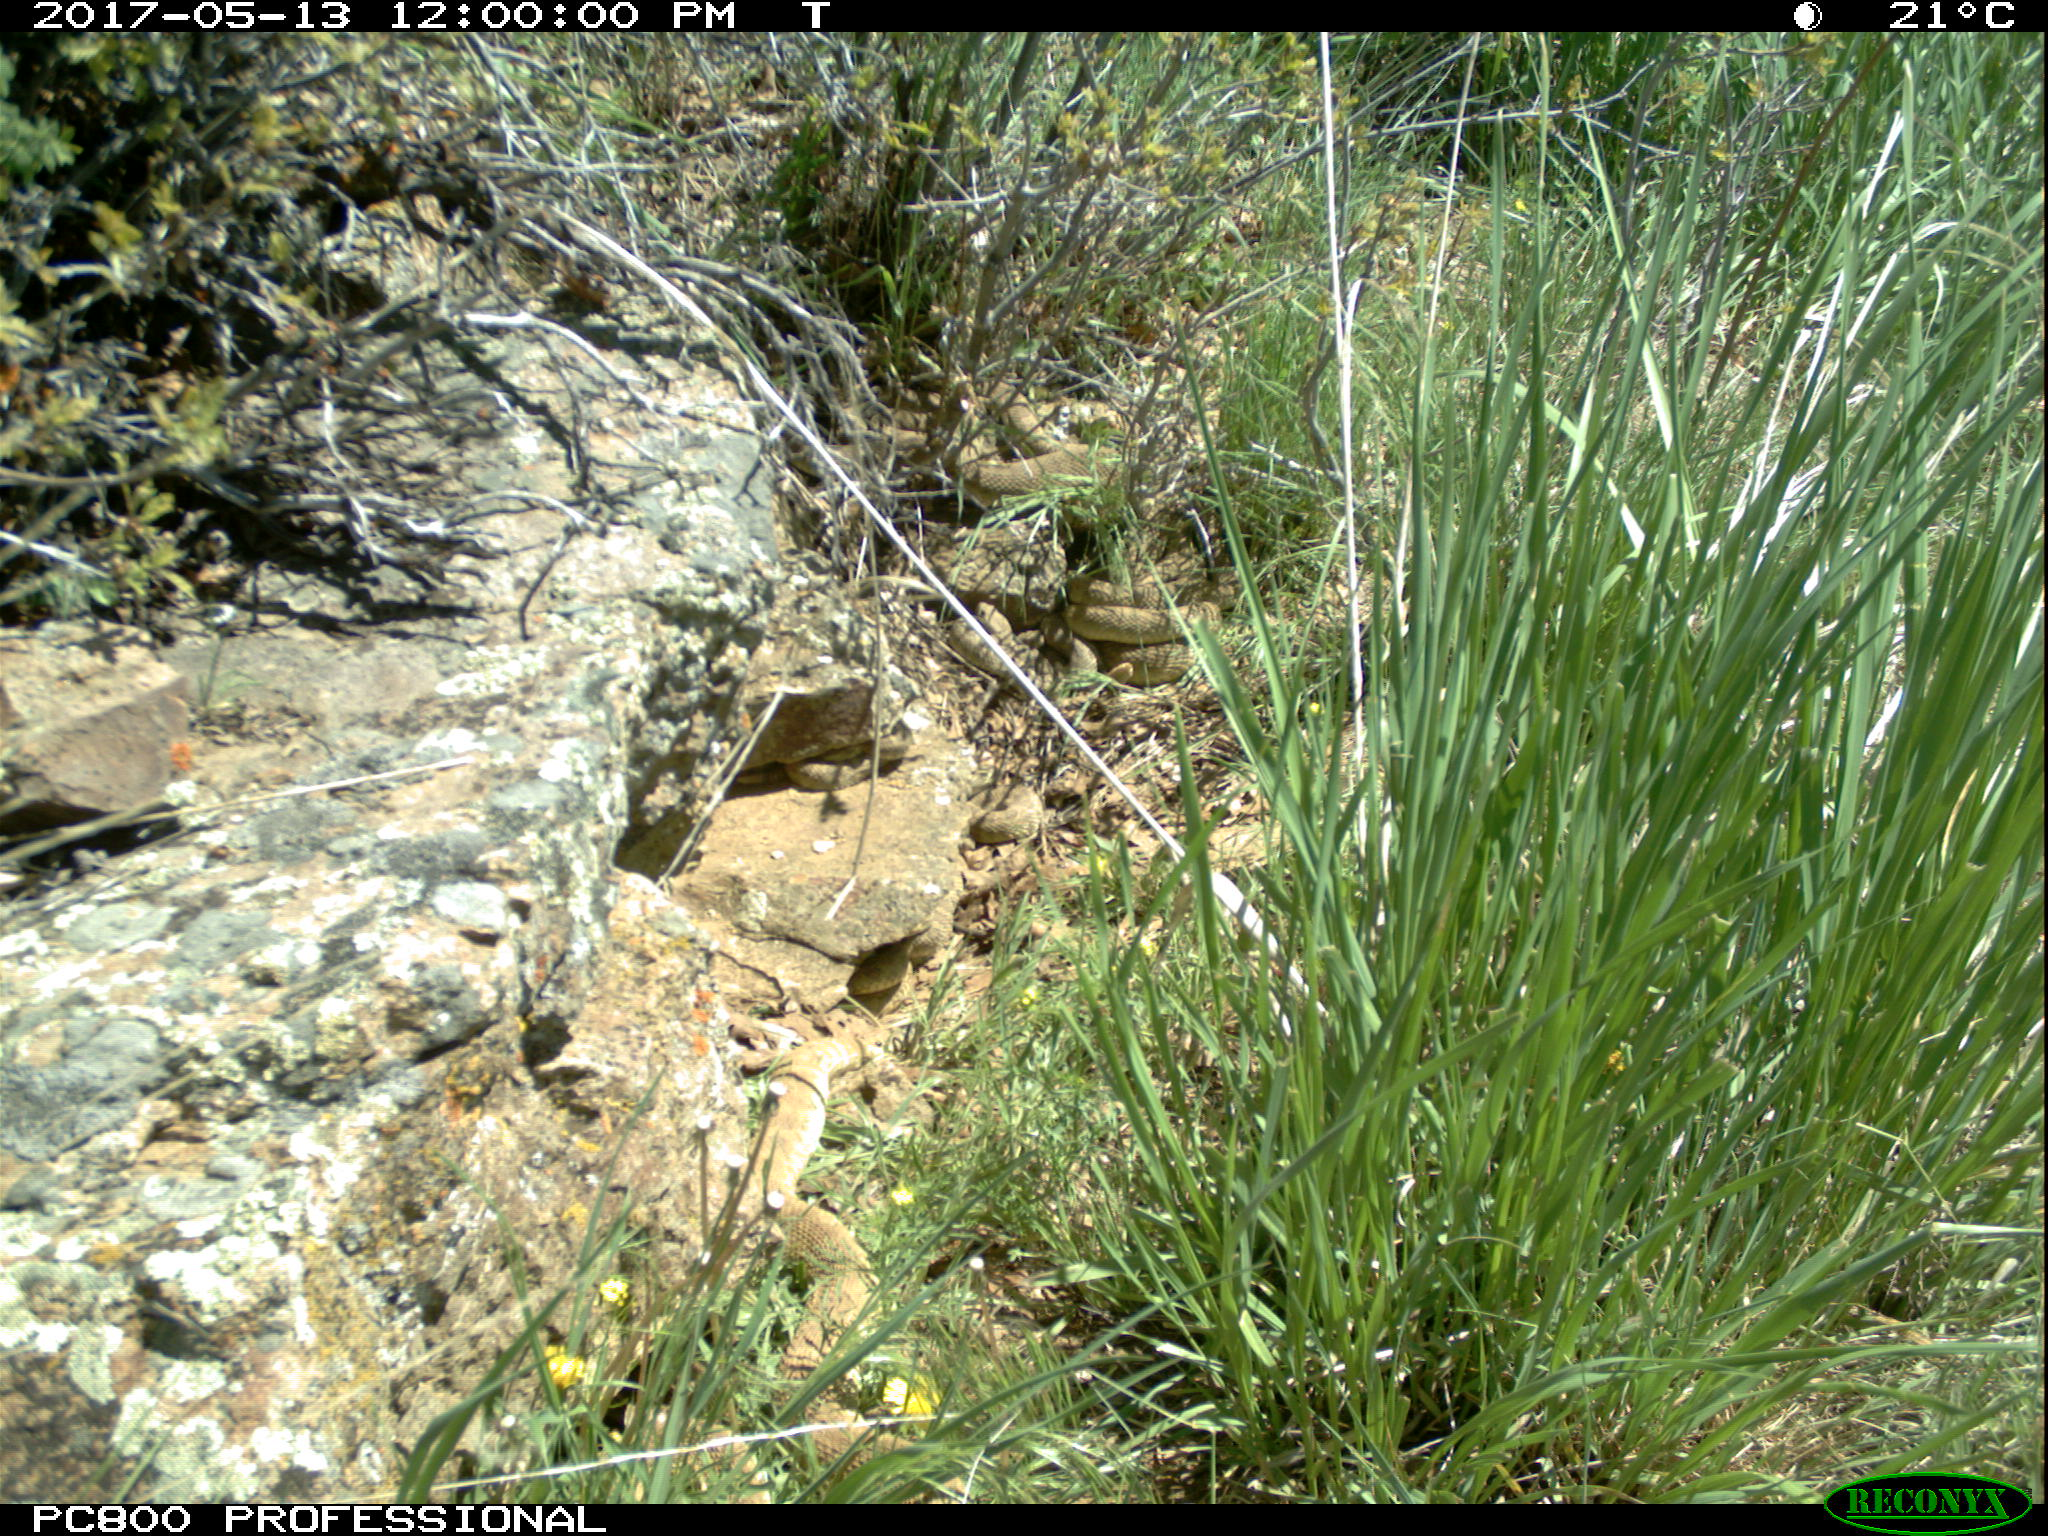snake: (758, 1000, 895, 1467), (926, 376, 1151, 502), (1059, 550, 1235, 678), (969, 787, 1059, 852), (785, 757, 900, 799)
